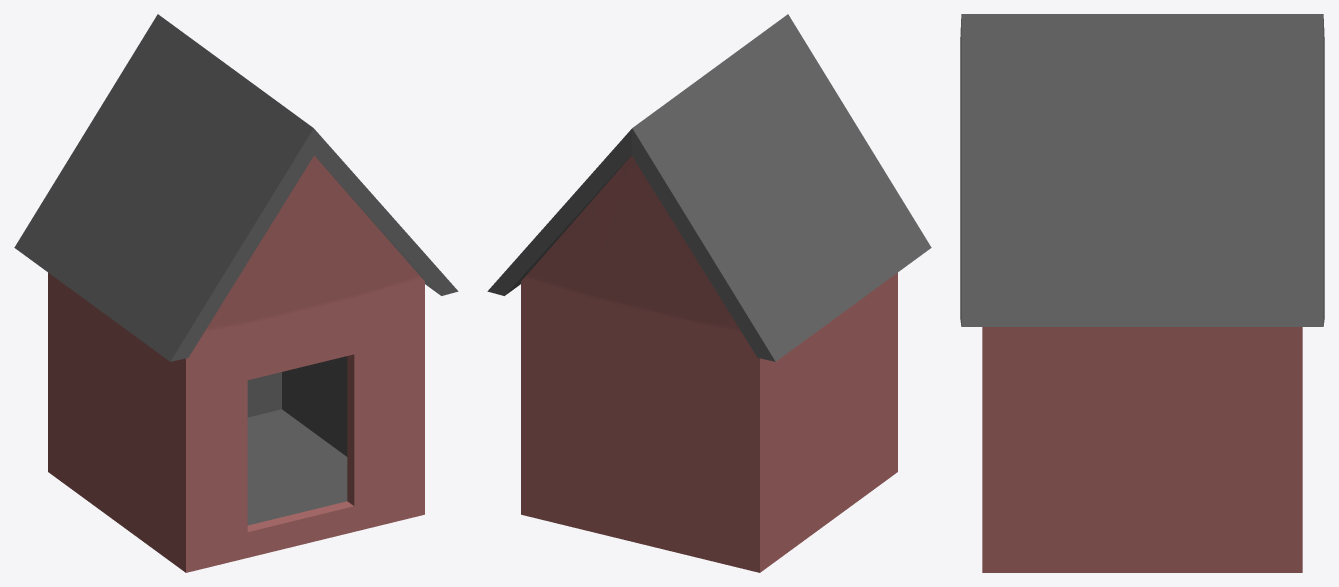
Rendered from doghouse.fbx.
3 renders of one model, left to right at view 1: azimuth 30°, elevation 25°; view 2: azimuth 150°, elevation 25°; view 3: azimuth 270°, elevation 25°, orthographic. The views are drawn at different scales.
Visible parts, largest first — view 1: house_geo, roof_Geo; view 2: house_geo, roof_Geo; view 3: roof_Geo, house_geo.
Part boxes in pixels (<box>): house_geo: <box>48,155,424,572</box>; roof_Geo: <box>14,14,458,361</box>; house_geo: <box>521,155,897,572</box>; roof_Geo: <box>487,14,931,361</box>; roof_Geo: <box>960,14,1324,326</box>; house_geo: <box>982,327,1302,572</box>.
Bounding box in the file's own units: 14.62 × 20.46 × 13.77.
